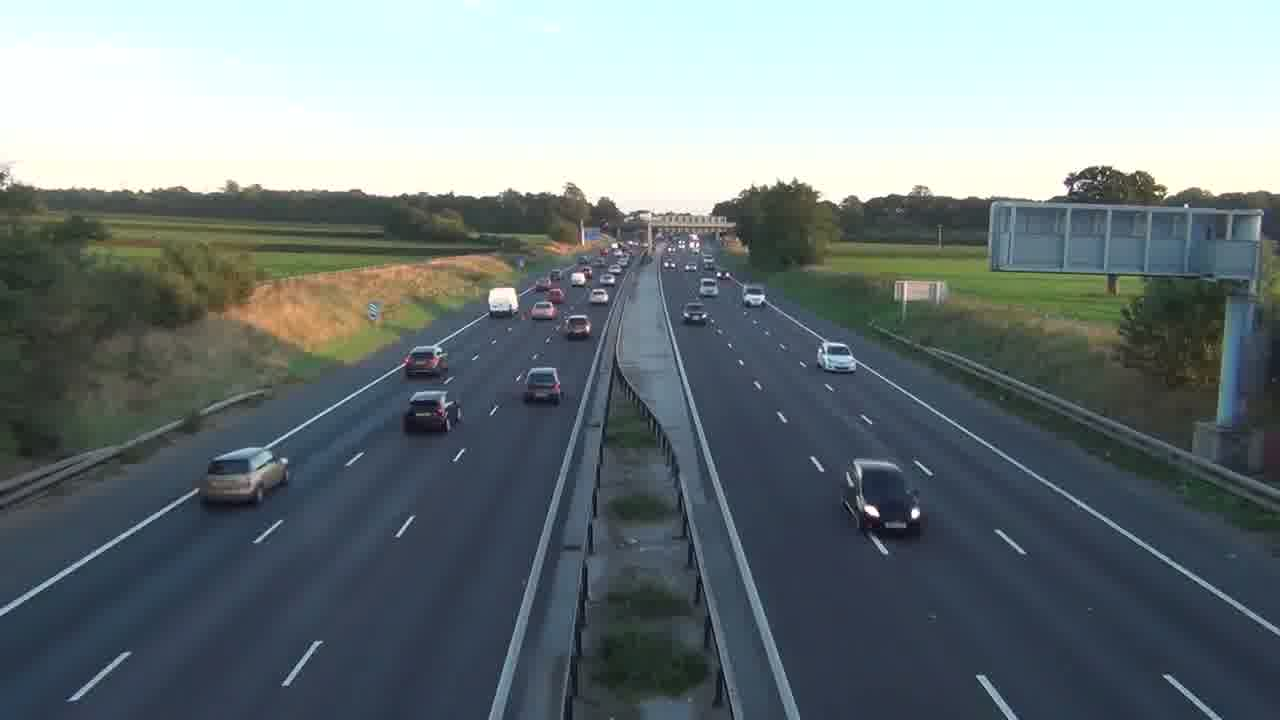car: (841, 458, 925, 536), (199, 445, 290, 506), (402, 389, 453, 432), (404, 344, 449, 378), (523, 367, 563, 404), (816, 341, 856, 373)
truck: (488, 286, 519, 319)
